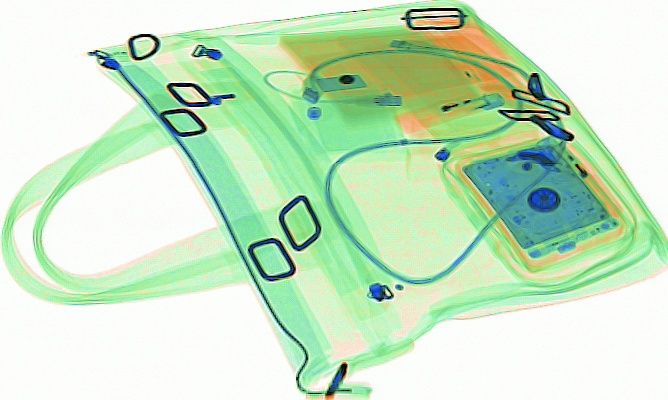lighter: (538, 134, 624, 217), (391, 92, 503, 134)
